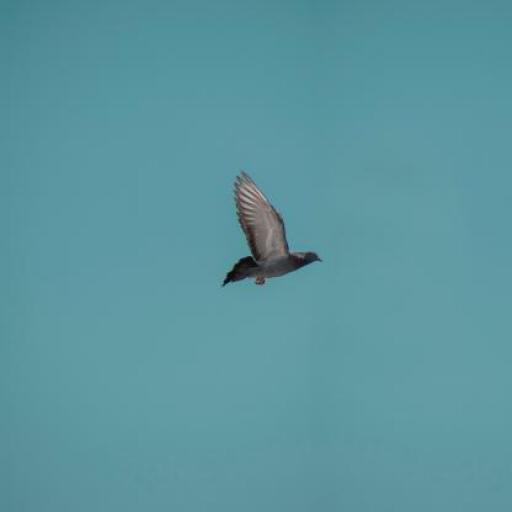bird: (222, 170, 324, 288)
